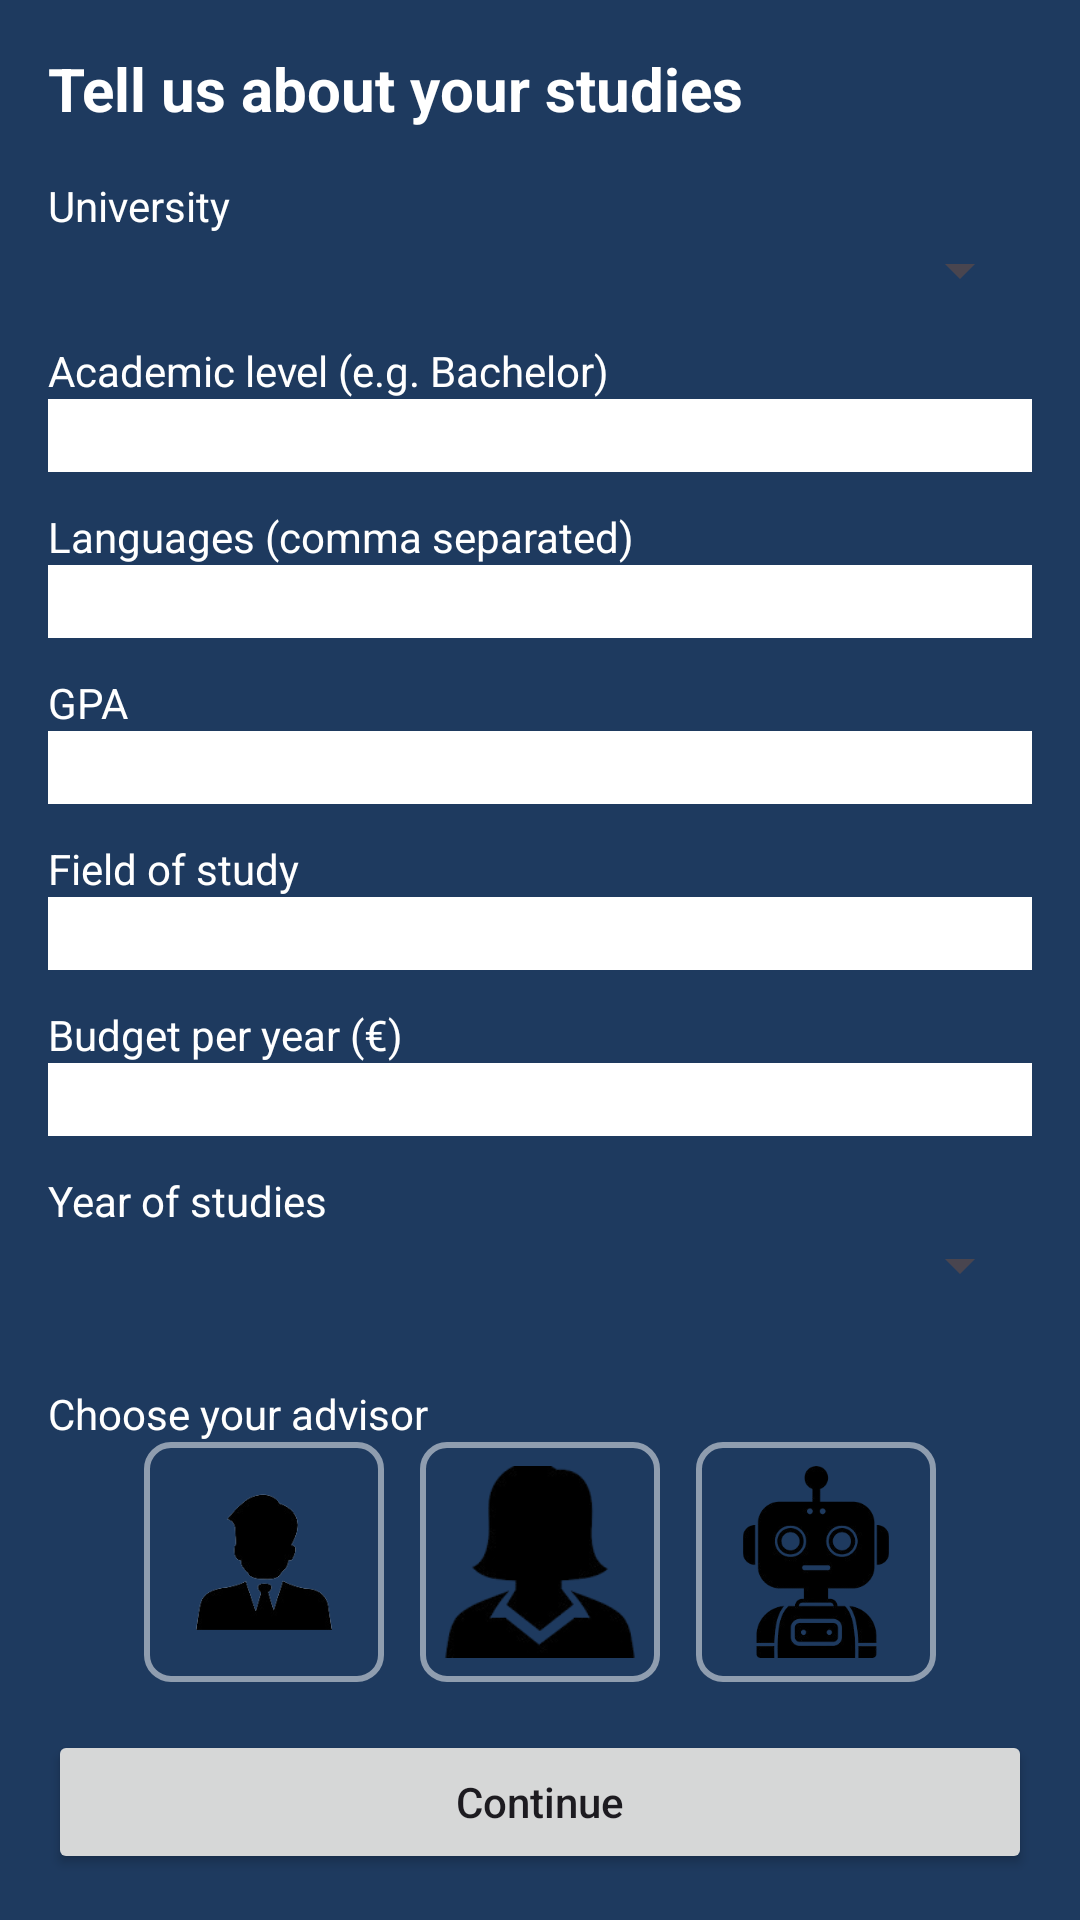

Where to tap for icons on this 1080*1920 app screen, as point (x, y):
Female advisor: point (540, 1562)
Male advisor: point (264, 1562)
Robot advisor: point (816, 1562)
